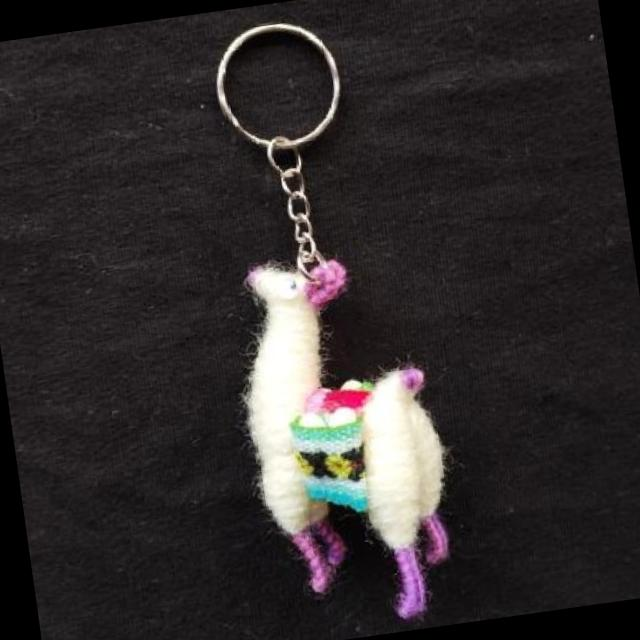Llavero: (222, 239, 470, 638)
